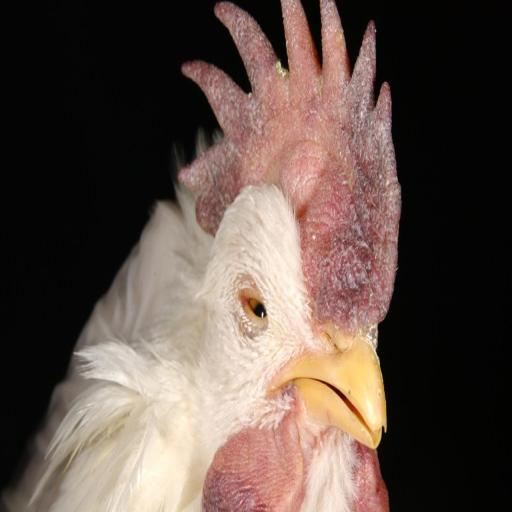disease: (335, 18, 402, 351), (158, 16, 306, 139), (222, 231, 284, 356)
